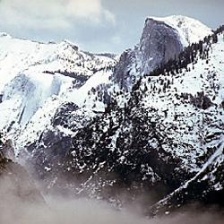neutral: (2, 6, 224, 200)
